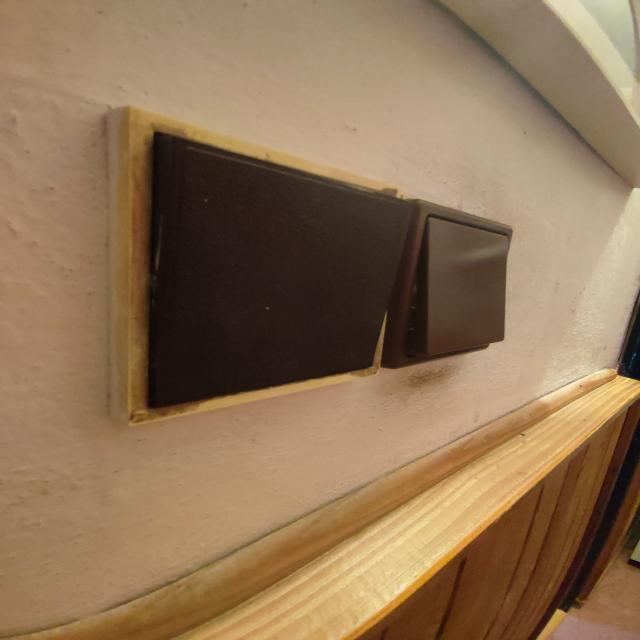house switch: (105, 106, 416, 423), (380, 197, 513, 369)
